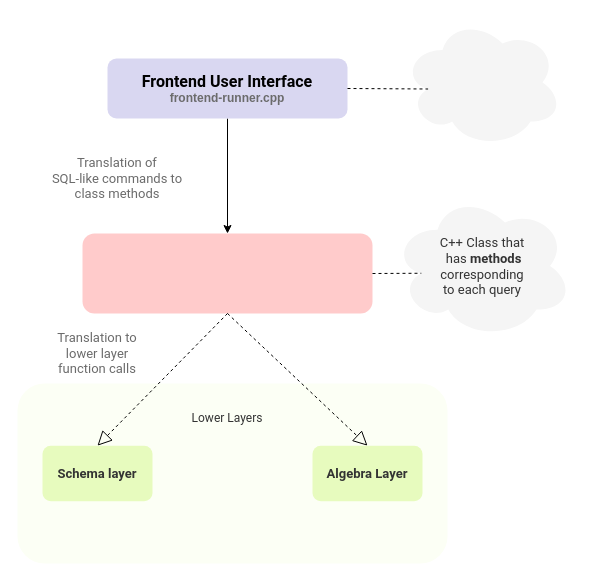
Image size: 589x580. Some labels were removed from this diagram. Each missing label, with the centre of its shape:
"C++ program that parses SQL-like commands" goes at (x=482, y=82).
"Frontend Programming Interface Frontend.cpp" goes at (x=227, y=273).
